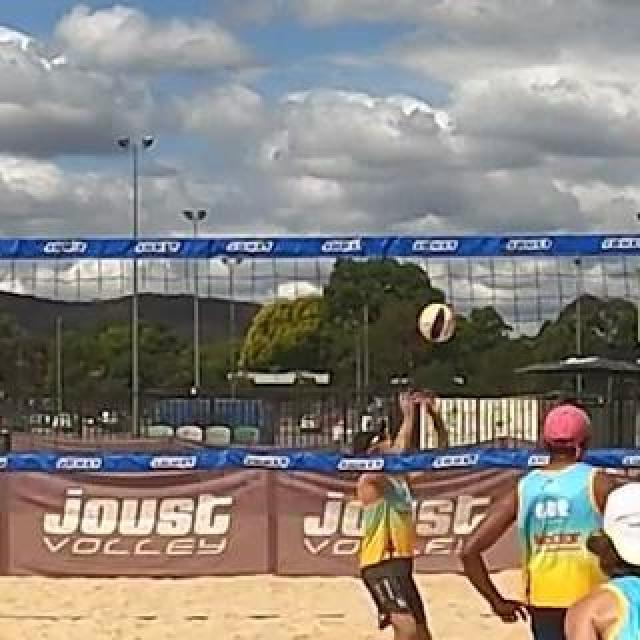volleyball: (417, 303, 453, 341)
